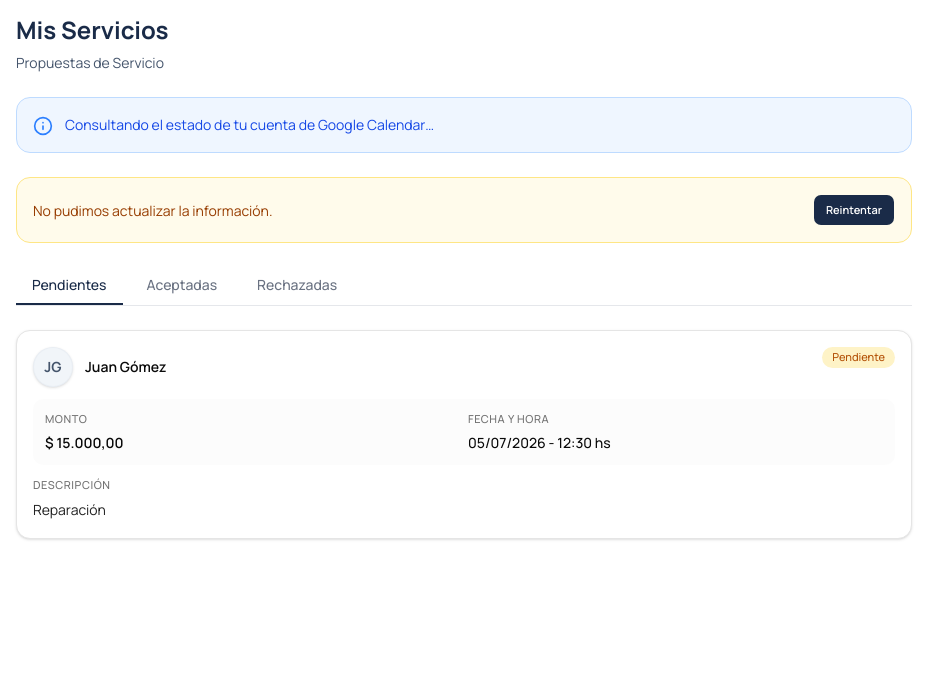
Test: ProposalHistoryView › preserves visible proposals and offers retry when refresh fails
Check: the heading "Juan Gómez" is shown, box [85,360,167,374]
Check: the message "No pudimos actualizar la información. Reintentar" is shown, box [16,177,912,243]
What coordinates should you click on to do the following:
click the button "Reintentar"
I would click on:
 (854, 210)
Its box is [813,194,895,226].
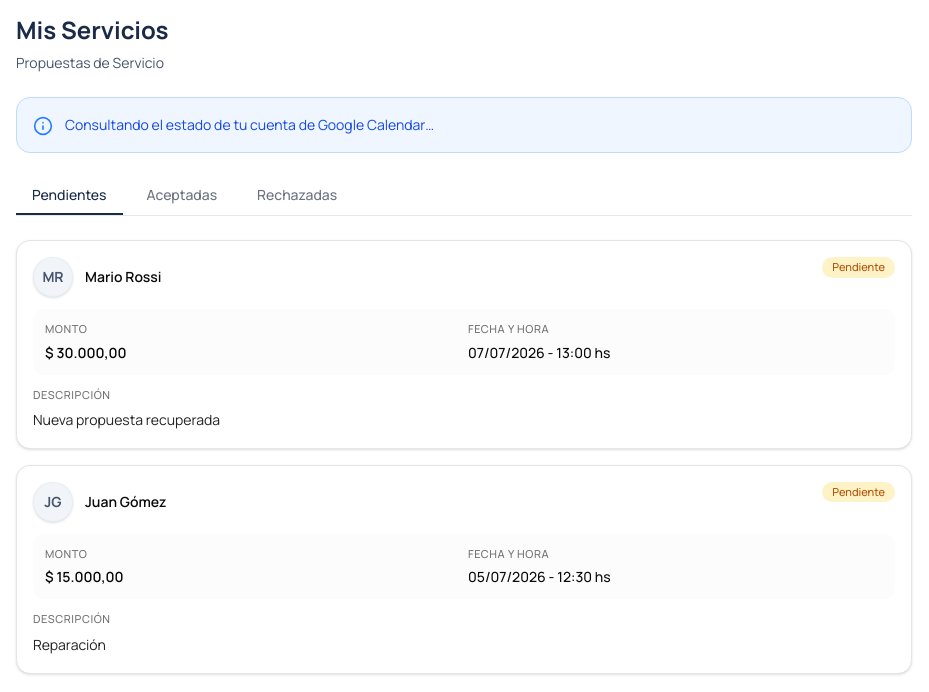
Check: the heading "Mario Rossi" is shown, box [85,270,162,284]
Check: the message with test id "proposal-refresh-error" is gone
